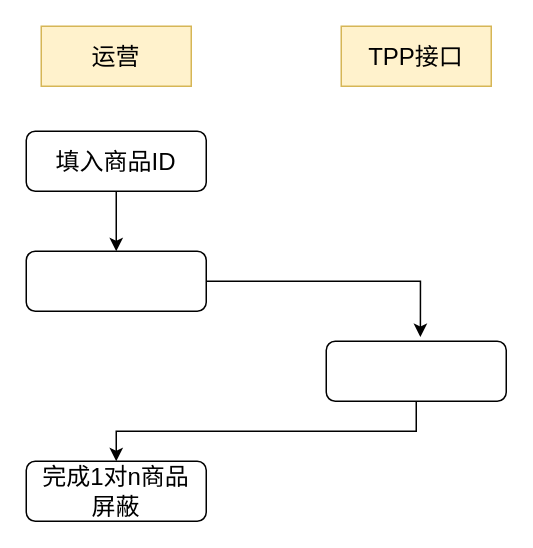
Some shapes in this 533 by 548 pixel diagram are drawn without their labels. Here are the shapes that lost their labels. From the top down, the box of each, then its label:
(25, 250, 206, 311): 调i2i行为接口
(325, 340, 506, 401): 计算返回 相似商品
